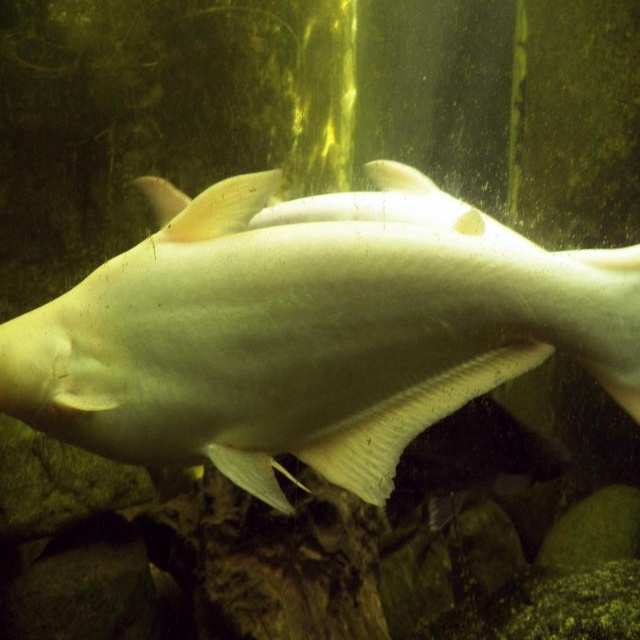Fish: (0, 149, 624, 530)
